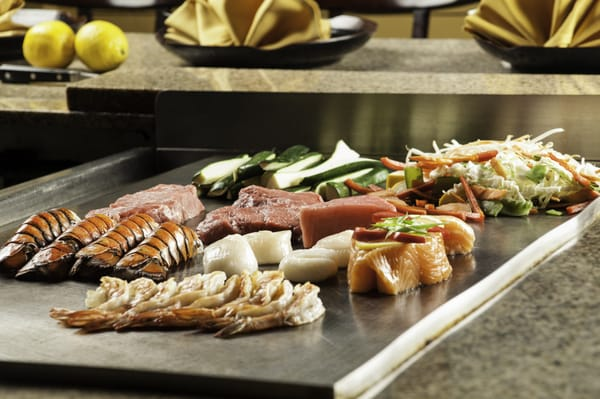steak: (74, 20, 129, 72), (22, 20, 76, 69)
sushi: (155, 4, 377, 70)
